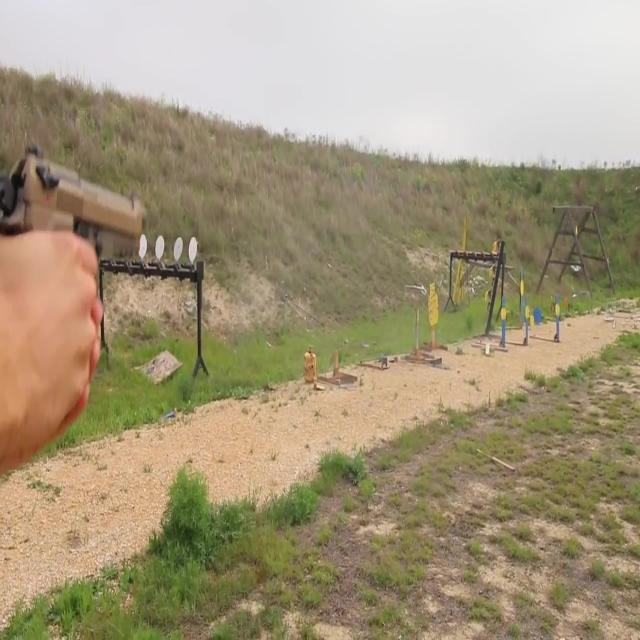Weapon: (2, 133, 186, 340)
